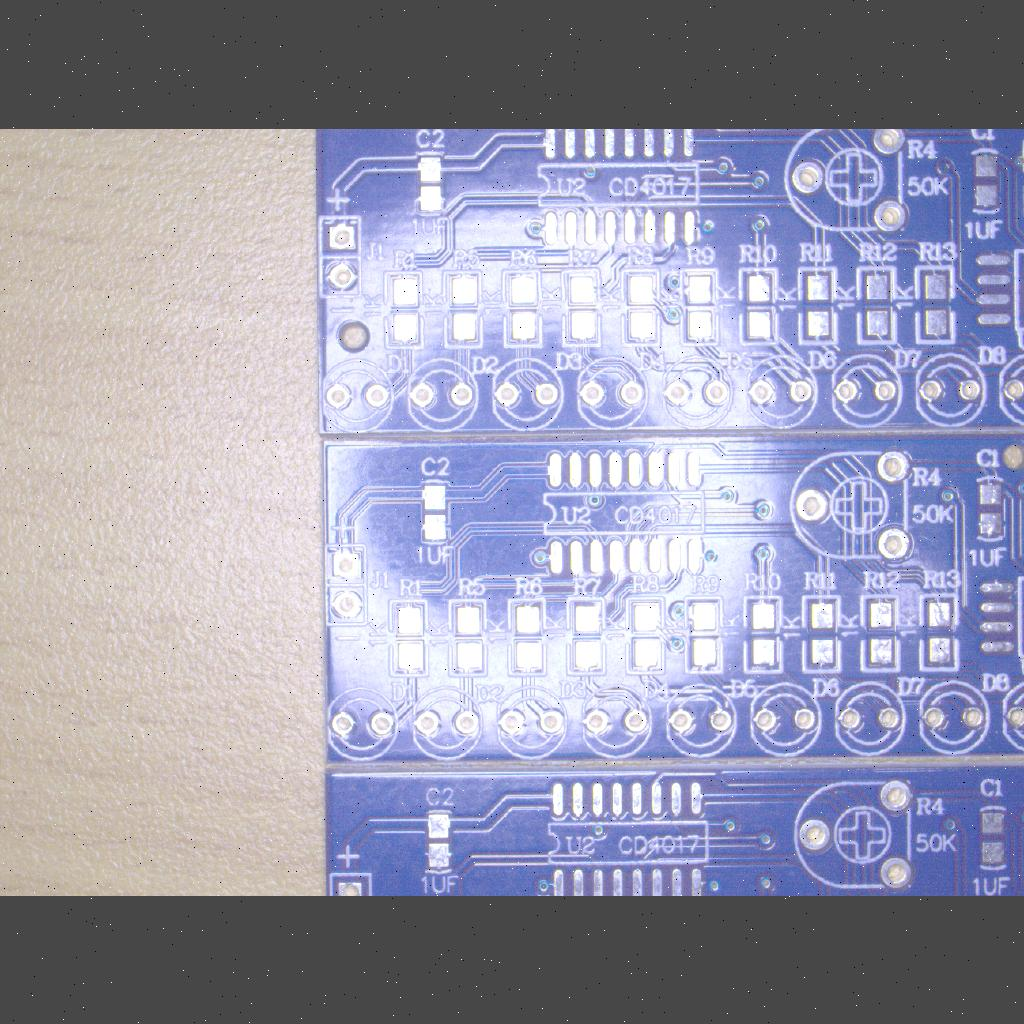NG: (538, 442, 708, 580), (542, 772, 716, 896), (380, 266, 430, 348), (735, 264, 783, 346), (677, 264, 723, 348), (501, 266, 545, 350), (386, 596, 430, 680), (914, 264, 958, 346), (442, 267, 486, 349), (860, 592, 904, 674), (797, 264, 839, 348), (620, 266, 664, 346), (856, 264, 898, 346), (447, 597, 489, 679), (507, 596, 549, 676), (565, 594, 607, 674), (684, 595, 726, 675), (560, 269, 604, 345), (626, 596, 666, 676), (743, 594, 783, 674), (919, 592, 959, 672), (803, 594, 841, 672), (968, 144, 1004, 218), (974, 471, 1008, 547), (418, 477, 454, 547), (976, 802, 1010, 874), (414, 146, 446, 220), (424, 804, 456, 876)
